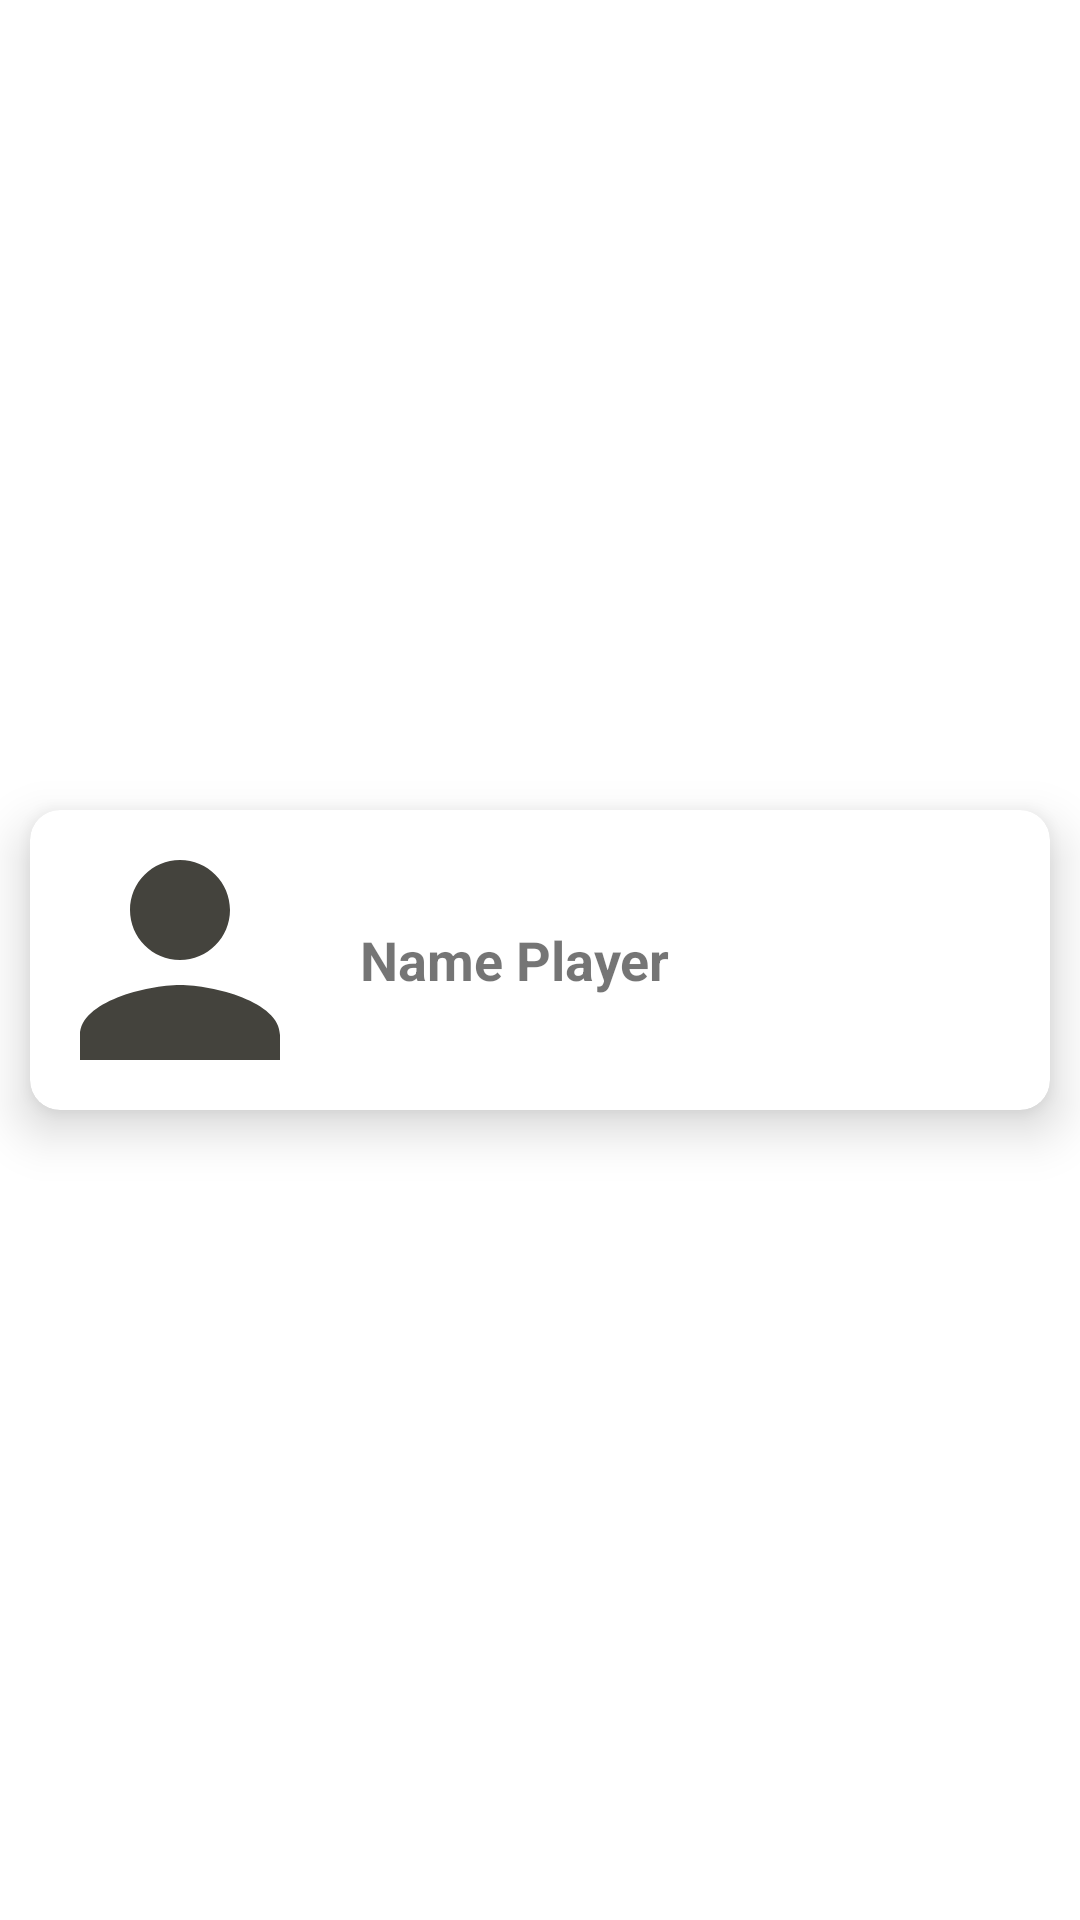

Icons on this 1080×1920 Android screen, each with its box as (x1, y1, x2, y2):
person: (80, 860, 280, 1060)
